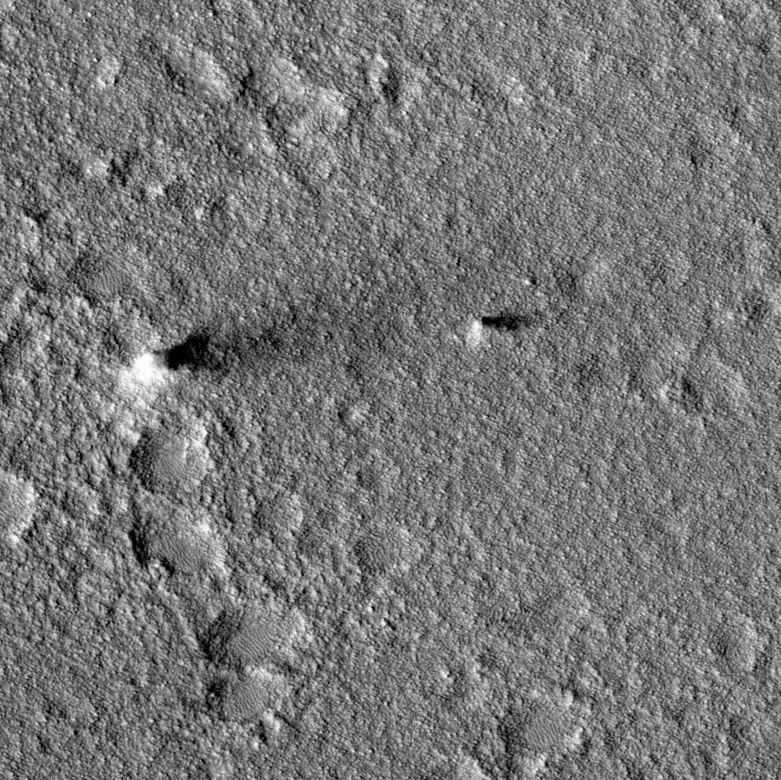dust_devil: (126, 310, 315, 385), (464, 312, 543, 347)
